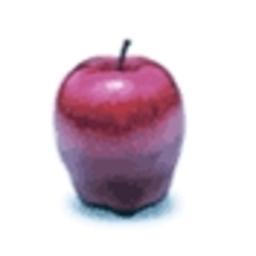apple: (53, 53, 183, 217)
